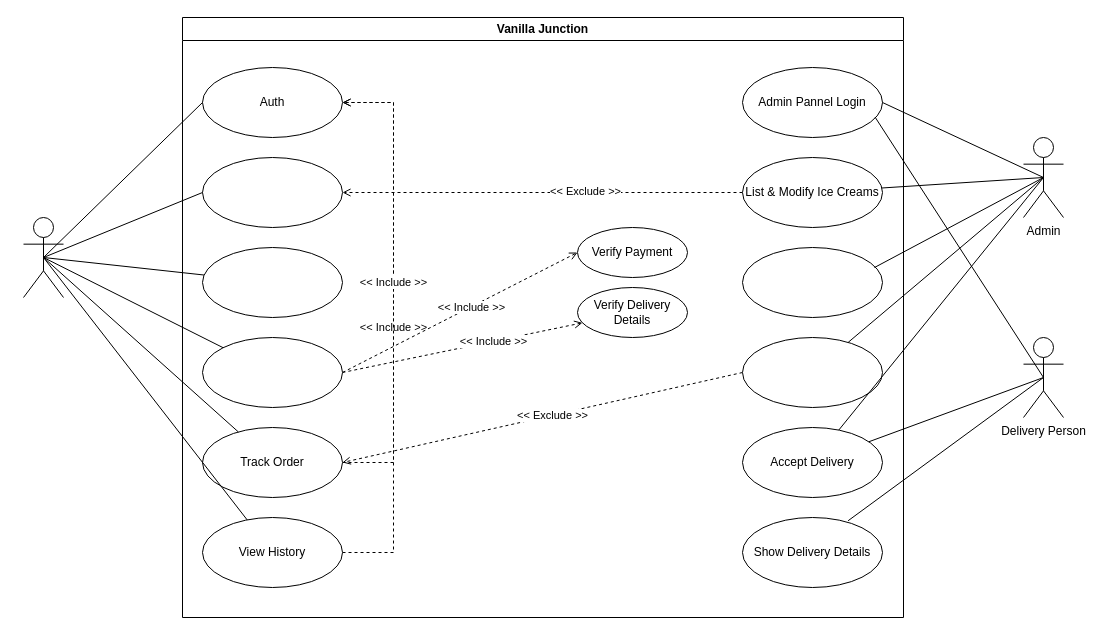
This 1103x635 diagram has some shape labels left out. Here are the shapes that lost their labels. From the top down, the centre of each, then its label:
At pixel 272 192: "View Ice Creams".
At pixel 43 257: "Customer".
At pixel 272 282: "Add to Cart".
At pixel 812 282: "Manage Admin Users".
At pixel 272 372: "Place Order".
At pixel 812 372: "Update Status".
